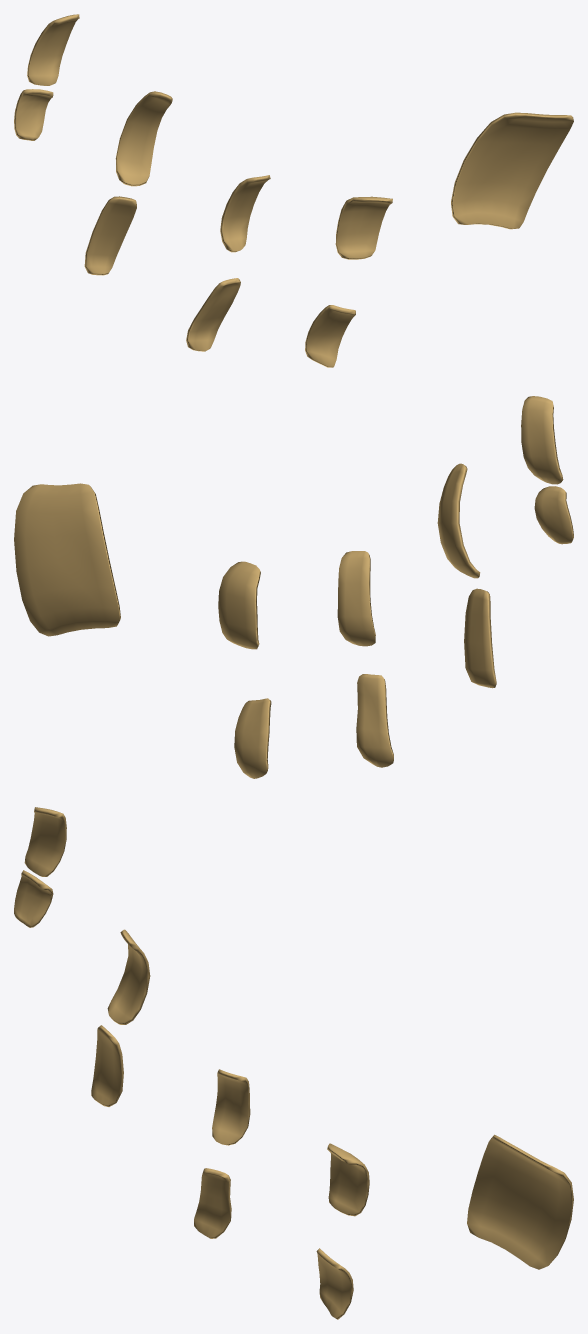
3 views of the same model, one above another, from view 1: azimuth 30°, elevation 25°; view 2: azimuth 150°, elevation 25°; view 3: azimuth 330°, elevation 25° (orthographic). The views are drawn at different scales.
Visible parts, largest first — view 1: 右侧趾间关节足底韧带; view 2: 右侧趾间关节足底韧带; view 3: 右侧趾间关节足底韧带.
Boxes of the visible parts, bbox=[...] form: 右侧趾间关节足底韧带: bbox=[14, 14, 573, 367]; 右侧趾间关节足底韧带: bbox=[14, 396, 573, 778]; 右侧趾间关节足底韧带: bbox=[14, 807, 573, 1319].
Size of the model in its own units: 0.1076 by 0.0802 by 0.0118.
